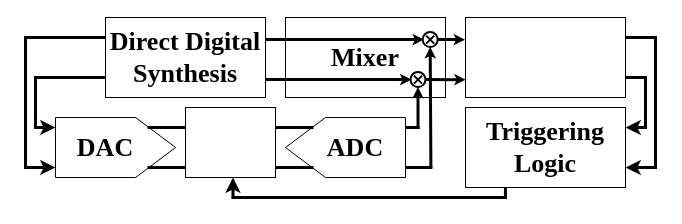
This 682x224 diagram has some shape labels left out. Each missing label, with the centre of its shape:
"Analog Design" belongs at (230,142).
"Low Pass Filter" belongs at (545,57).
